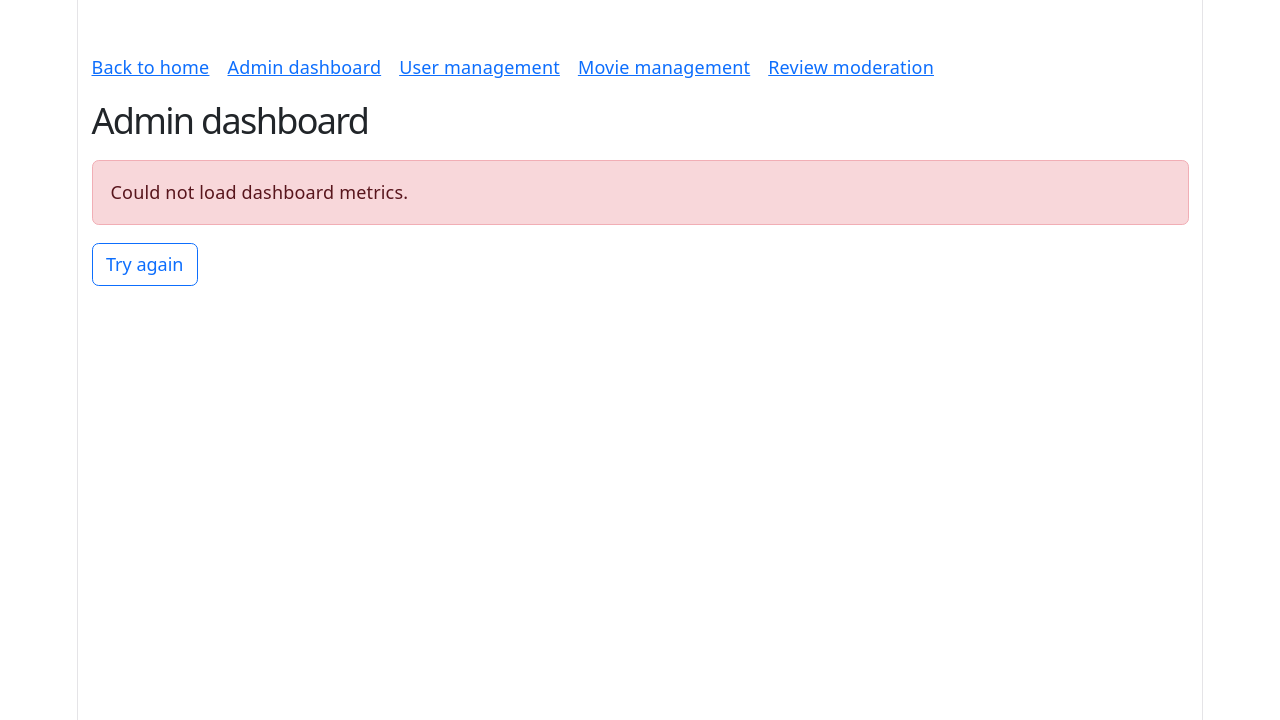
Test case: retries a failed request and shows the empty state for every table
Expected: the message reads "Could not load dashboard metrics.", [110,180,408,204]
What coordinates should you click on to do the following:
click the button "Try again"
I would click on:
 (145, 264)
Its box is [92,243,198,286].
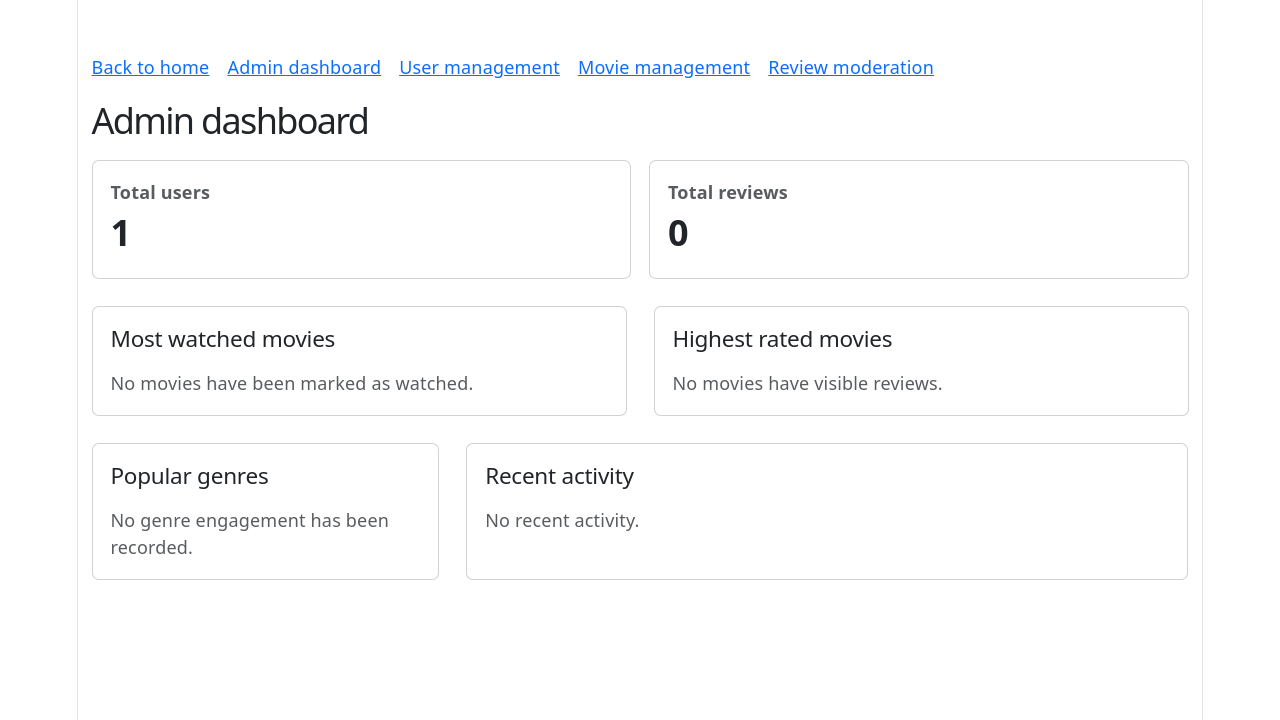
Expected: the text "No recent activity." is shown, [485,508,640,532]
Expected: the text "No movies have been marked as watched." is shown, [110,371,473,395]
Expected: the text "No movies have visible reviews." is shown, [672,371,943,395]
